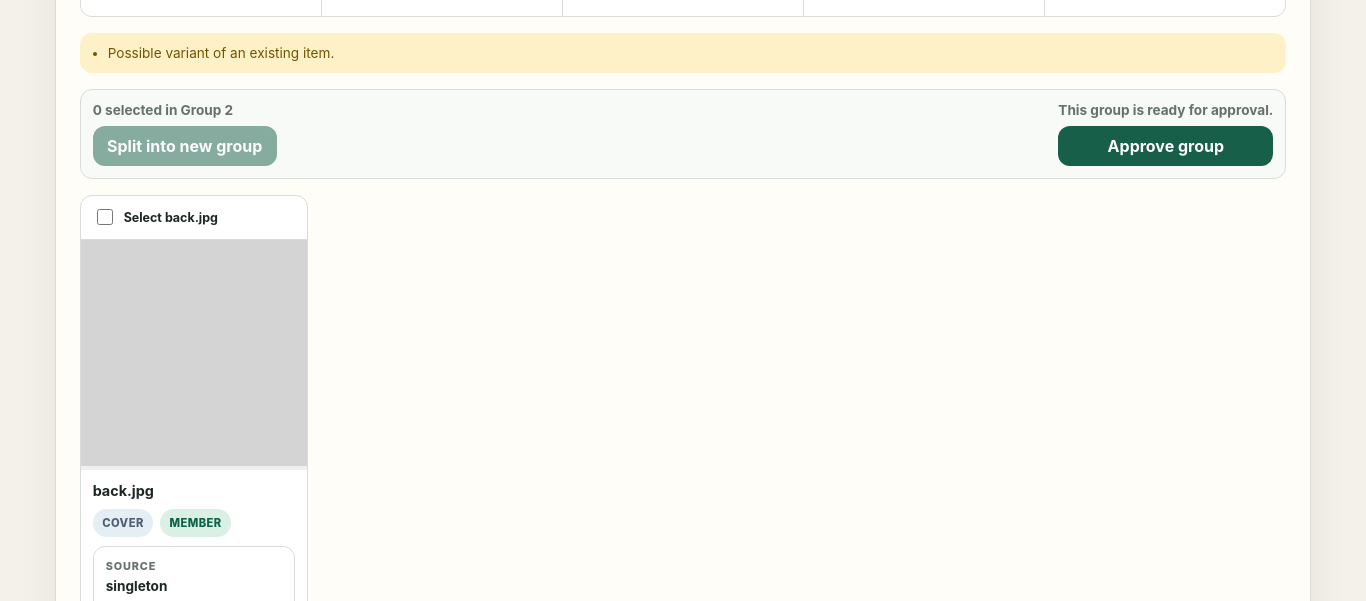
Test: ReviewBatch › confirms image rejection and replaces the snapshot without removing the image
The image size is (1366, 601).
(page scrolled)
Click the checkbox labelled "Select back.jpg" at (105,217), box x1=97 y1=209 x2=113 y2=225
(page scrolled)
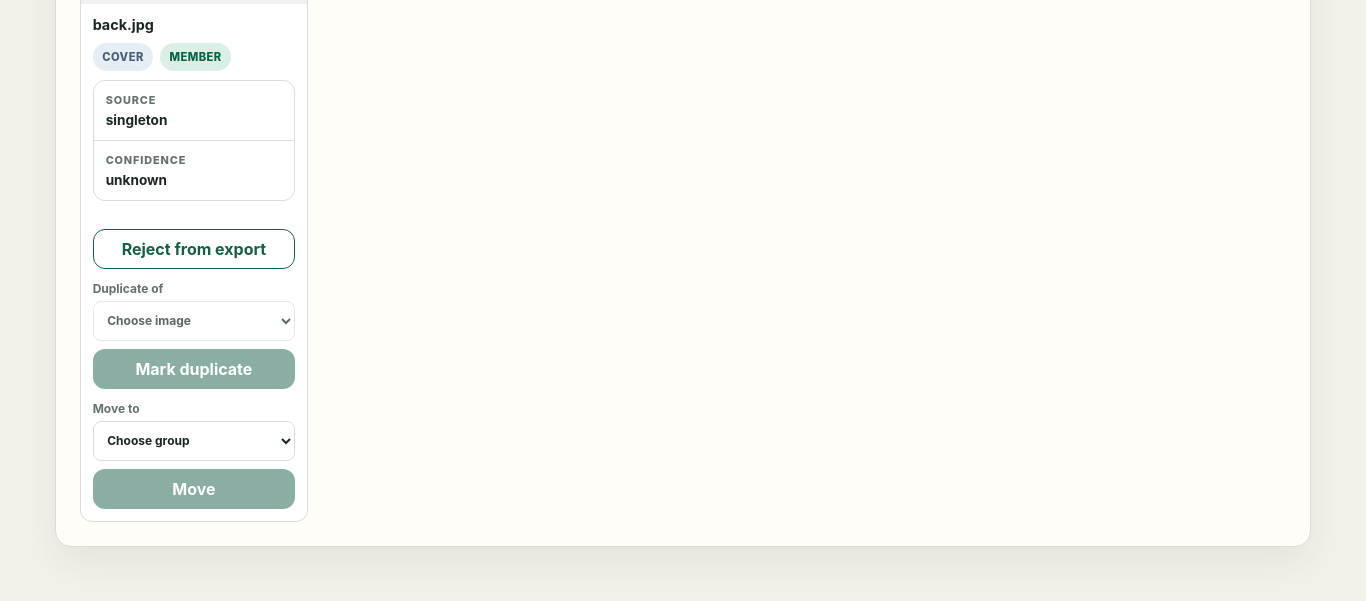
Click the button named "Reject back.jpg from export" at (194,249), box x1=93 y1=229 x2=295 y2=269
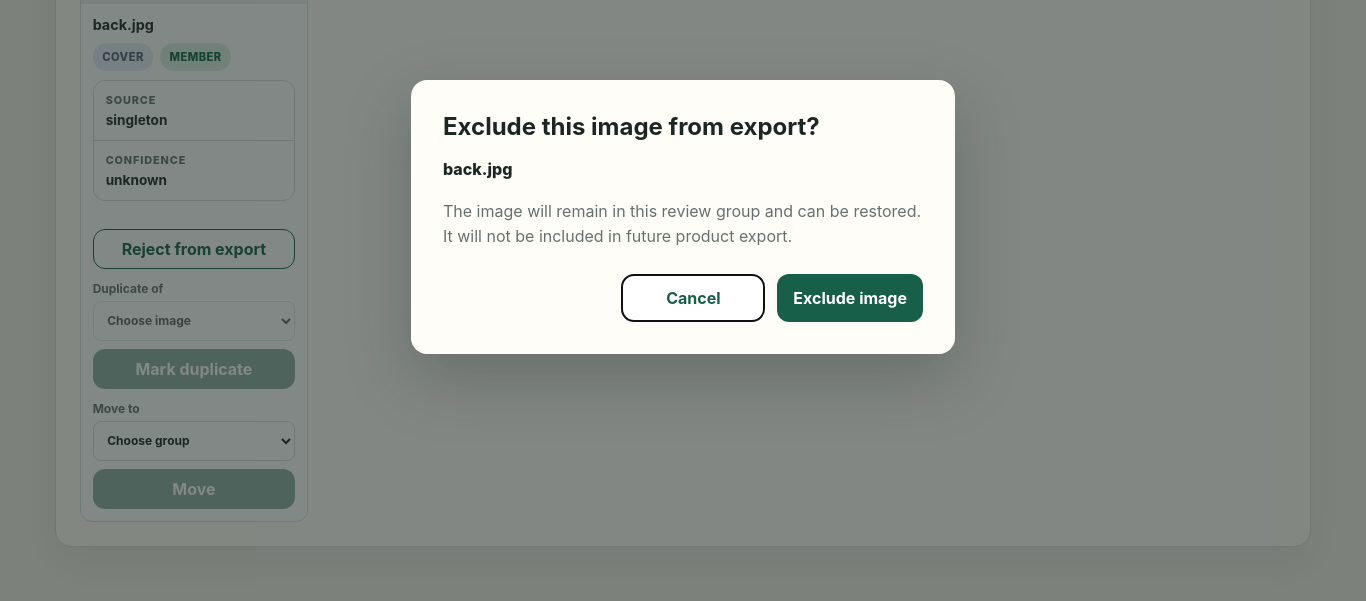
Result: the text "The image will remain in this review group and can be restored. It will not be included in future product export." is shown at x1=443 y1=201 x2=921 y2=246
Click the button "Cancel" at (693,298), box x1=621 y1=274 x2=765 y2=322
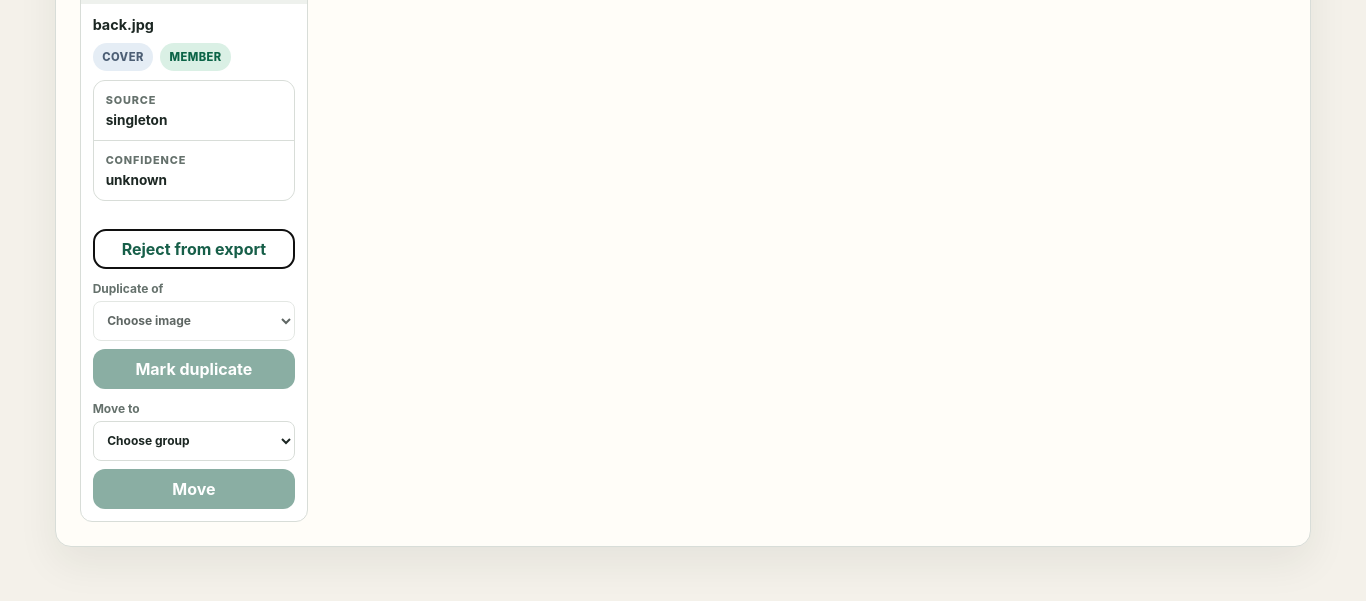
Click the button named "Reject back.jpg from export" at (194,249), box x1=93 y1=229 x2=295 y2=269
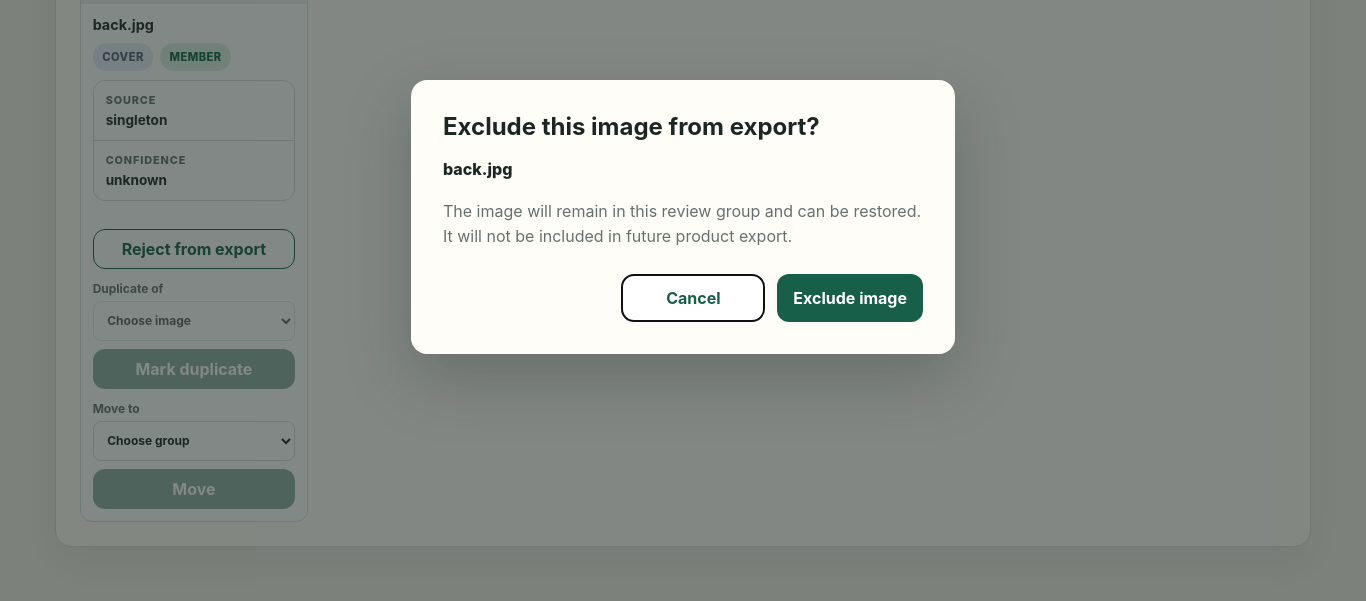
Click the button "Exclude image" at (850,298), box x1=777 y1=274 x2=923 y2=322
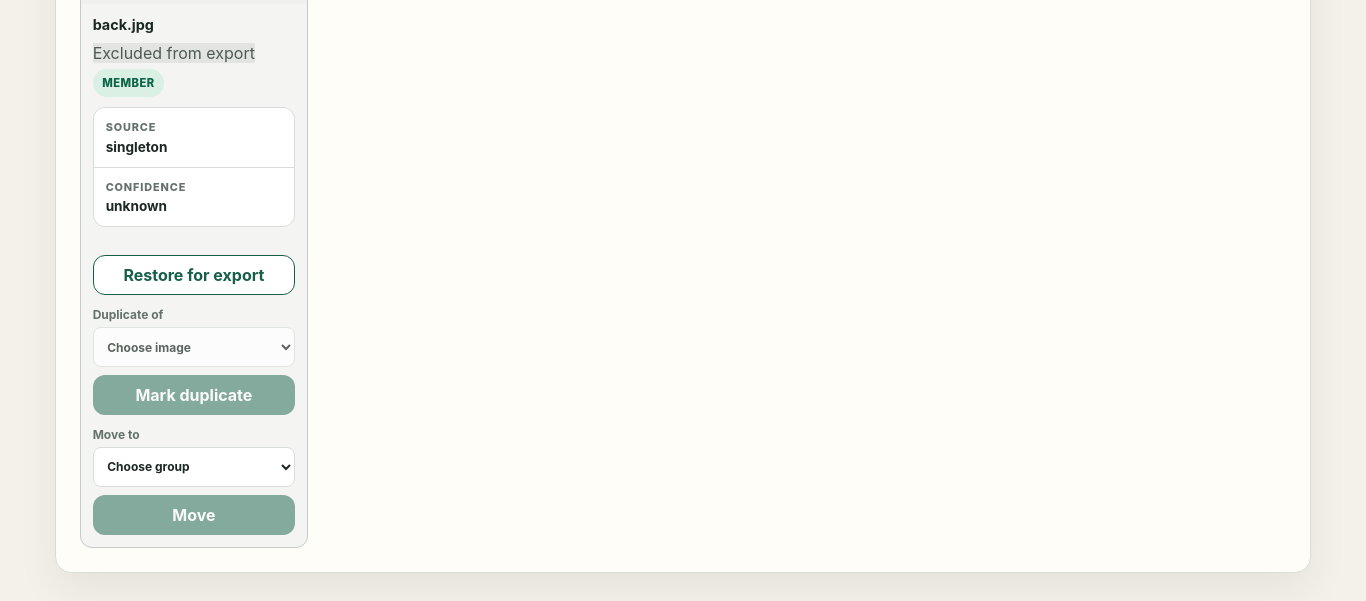
Expected: the text "back.jpg" is shown, x1=93 y1=16 x2=154 y2=33
Result: the text "Excluded from export" is shown at x1=93 y1=43 x2=255 y2=63
Result: the button named "Restore back.jpg for export" is enabled at x1=93 y1=255 x2=295 y2=295
